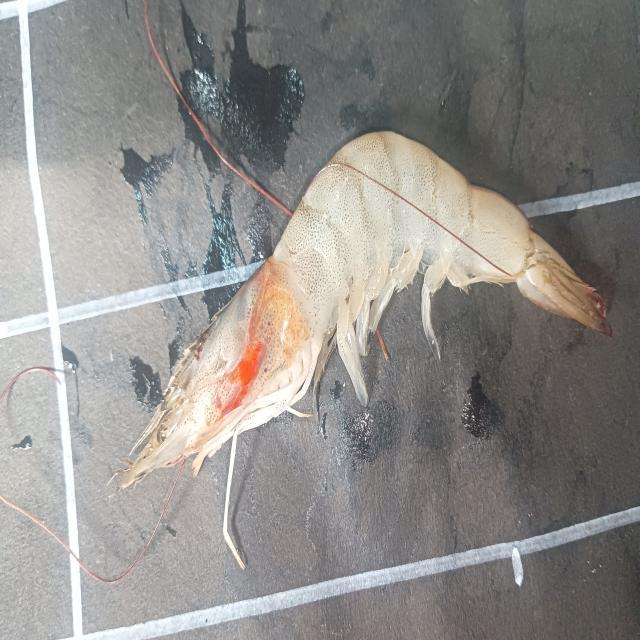shrimp: (121, 133, 610, 487)
